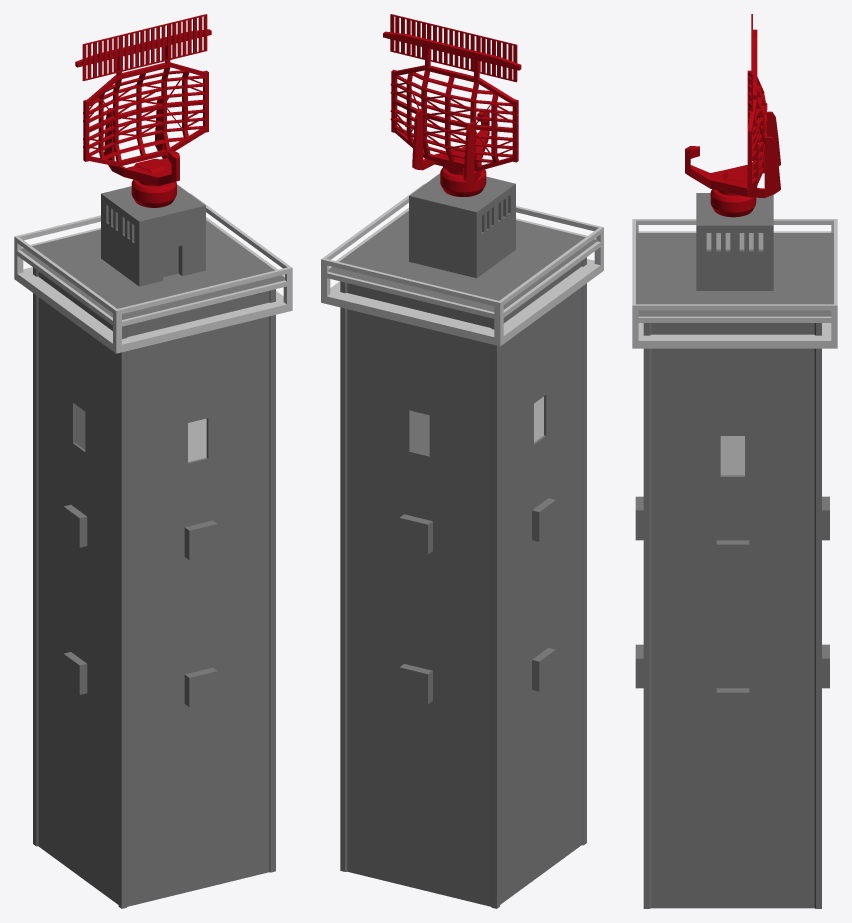
File: Tower_001.fbx
3 renders of one model, left to right at view 1: azimuth 30°, elevation 25°; view 2: azimuth 150°, elevation 25°; view 3: azimuth 270°, elevation 25°, orthographic.
Visible parts, largest first — view 1: Cube.000; view 2: Cube.000; view 3: Cube.000.
Part boxes in pixels (bbox=[...]): Cube.000: bbox=[14, 14, 292, 908]; Cube.000: bbox=[321, 14, 603, 908]; Cube.000: bbox=[632, 14, 837, 908].
Size of the model in its own units: 361 by 1606 by 361.
